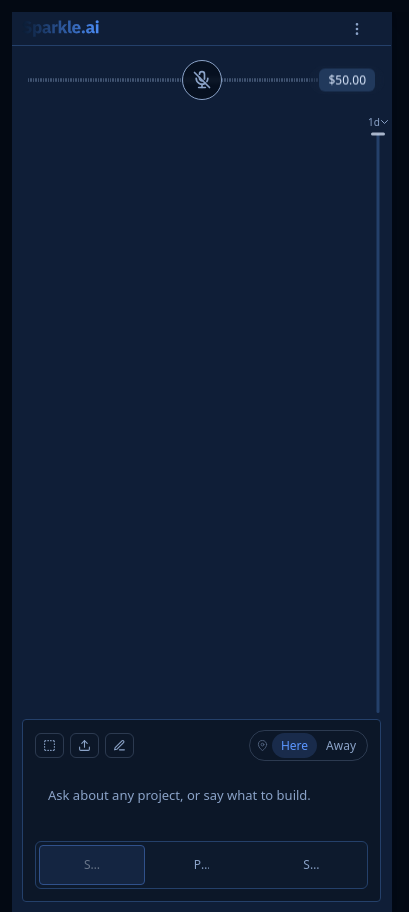
Test: ConciergeHost — a mounted send follows the CABLE, never the surface › refuses visibly and keeps the draft when the pinned agent cannot be resolved
The width and height of the screenshot is (409, 912).
Type "do not lose these words" into the text box named "Message" at (202,804), box x1=35 y1=775 x2=368 y2=833
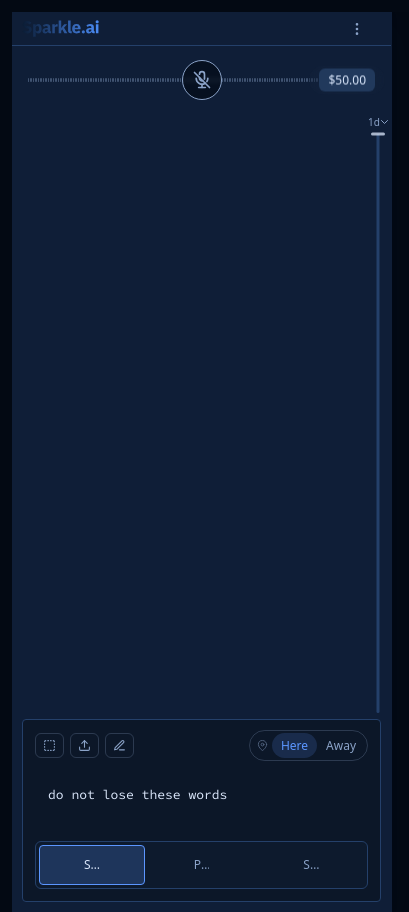
Click the button "Send" at (92,865), box x1=39 y1=845 x2=145 y2=885
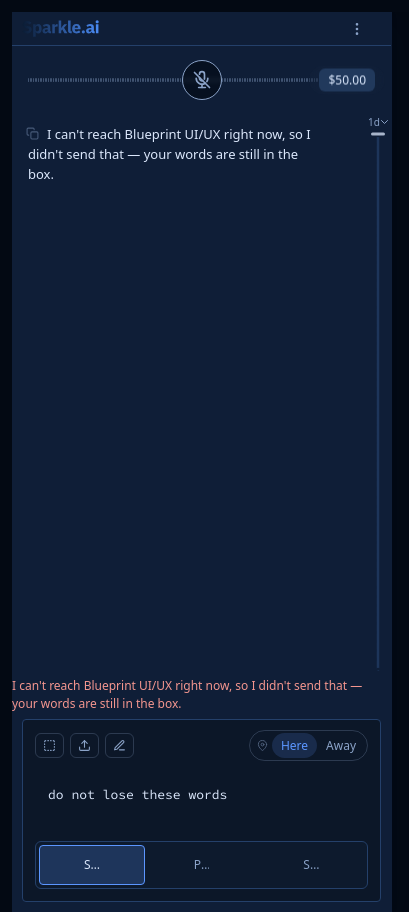
expect the message with test id "mounted-notice" shows "Blueprint UI/UX": met, box x1=12 y1=677 x2=362 y2=712
